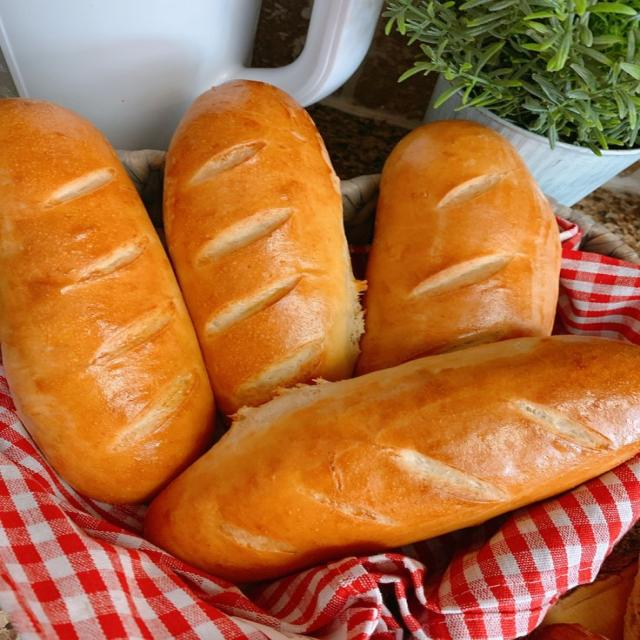bread: (146, 336, 639, 581), (0, 99, 213, 502), (164, 81, 361, 414), (357, 121, 560, 373), (528, 624, 613, 639)
